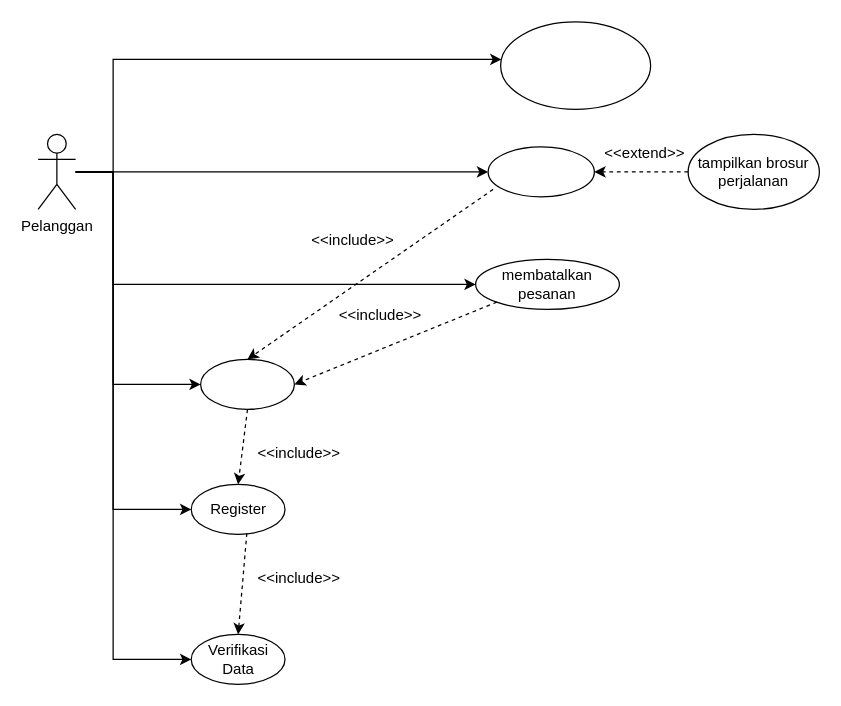
Image size: 841x706. Some labels were removed from this diagram. The centre of each missing label's shape, as x and y in pixels:
"Login" belongs at (x=246, y=383).
"memesan Kereta" belongs at (x=540, y=171).
"Mengecek jadwal Kereta" belongs at (x=575, y=65).
